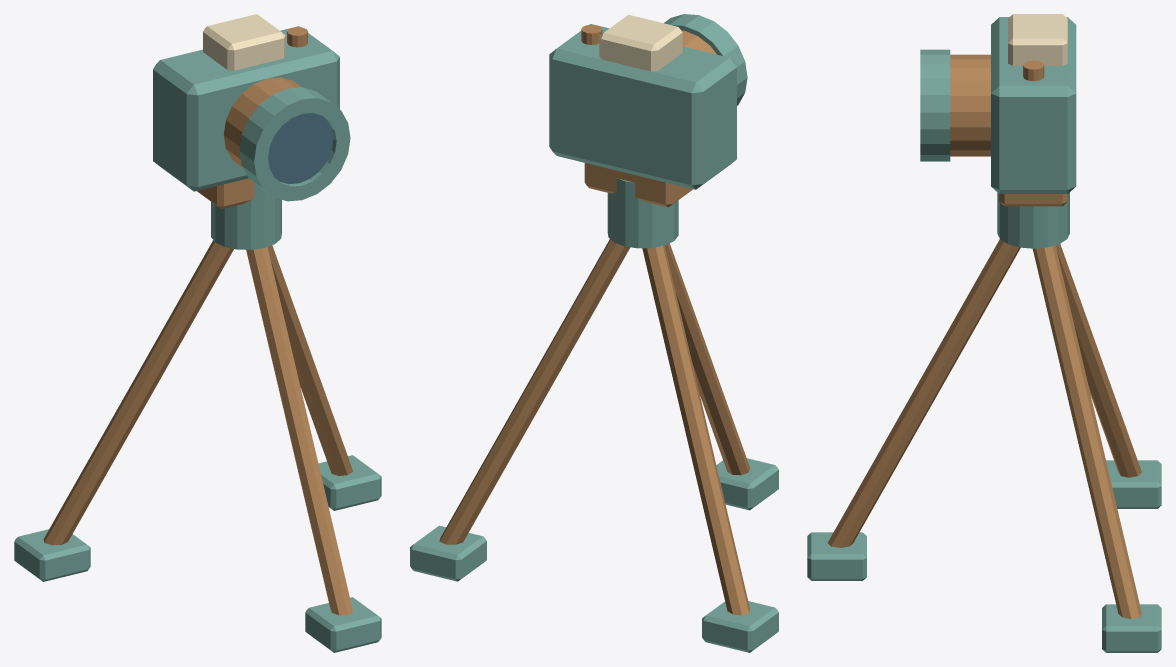
The picture shows the model from 3 angles, left to right: view 1: azimuth 30°, elevation 25°; view 2: azimuth 150°, elevation 25°; view 3: azimuth 270°, elevation 25°; orthographic projection.
Visible parts, largest first — view 1: photography-tripod-camera-01; view 2: photography-tripod-camera-01; view 3: photography-tripod-camera-01.
Part boxes in pixels (left/top/right/bottom): photography-tripod-camera-01: left=14, top=14, right=381, bottom=652; photography-tripod-camera-01: left=410, top=14, right=778, bottom=652; photography-tripod-camera-01: left=807, top=14, right=1161, bottom=652.
Bounding box in the file's own units: 0.9367 × 1.4 × 0.83.
